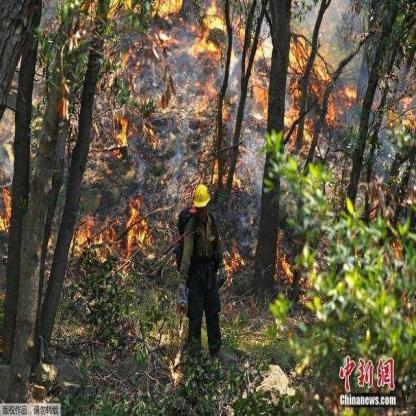fire: (245, 24, 343, 155), (72, 200, 148, 282), (198, 8, 228, 80), (106, 109, 130, 165), (276, 237, 296, 304), (223, 239, 242, 288), (1, 179, 13, 244)
other: (187, 178, 215, 213)
